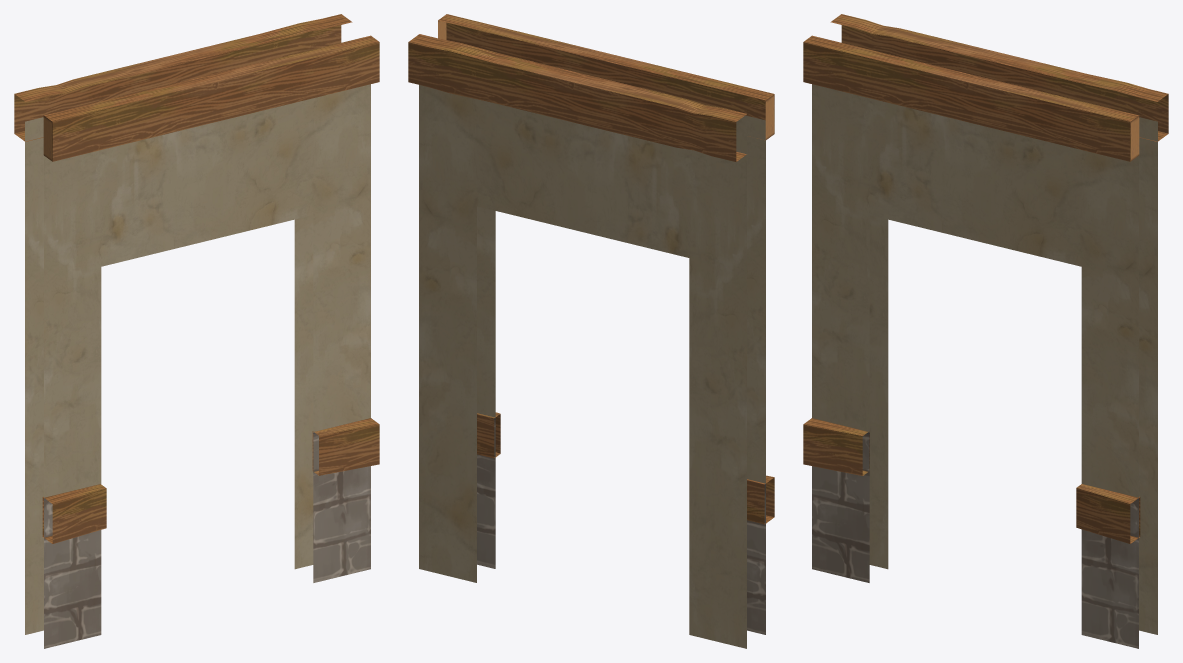
Rendered from Wall_Plaster_Door_Flat.gltf.
3 renders of one model, left to right at view 1: azimuth 30°, elevation 25°; view 2: azimuth 150°, elevation 25°; view 3: azimuth 330°, elevation 25°, orthographic.
Parts seen in each view (by area): view 1: Wall_Plaster_Door_Flat; view 2: Wall_Plaster_Door_Flat; view 3: Wall_Plaster_Door_Flat.
Boxes of the visible parts, x1,y1,x2,y2 form: Wall_Plaster_Door_Flat: (14, 14, 379, 648); Wall_Plaster_Door_Flat: (408, 14, 774, 648); Wall_Plaster_Door_Flat: (803, 14, 1168, 648).
Size of the model in its own units: 2 by 3.12 by 0.4065.
Materials: 3 (3 with a texture image).
